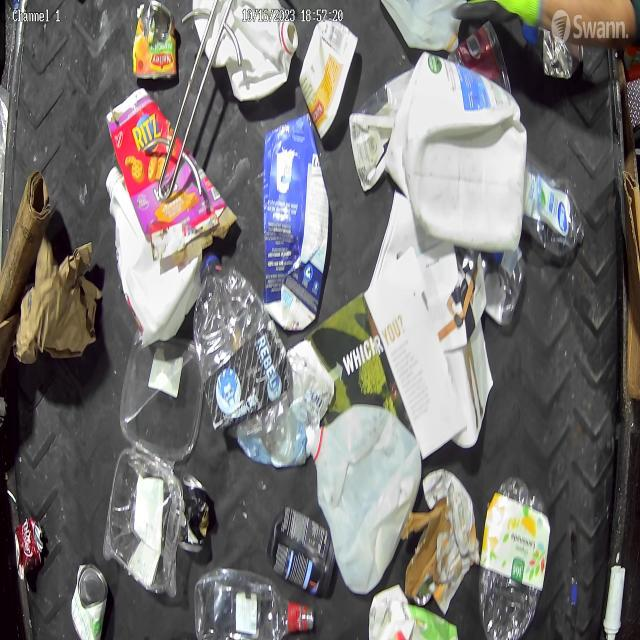can: (448, 20, 512, 97), (132, 0, 177, 81), (71, 562, 109, 640), (179, 472, 209, 552), (542, 28, 584, 80), (16, 516, 44, 579)
milk_jug: (384, 51, 527, 252), (312, 403, 422, 594), (104, 166, 200, 349), (192, 0, 298, 102)
non_white_jug: (262, 112, 330, 332), (368, 584, 459, 640)
plastic_bottle: (193, 249, 289, 432), (478, 477, 551, 640), (194, 567, 314, 640), (524, 148, 586, 258), (480, 249, 526, 328)
